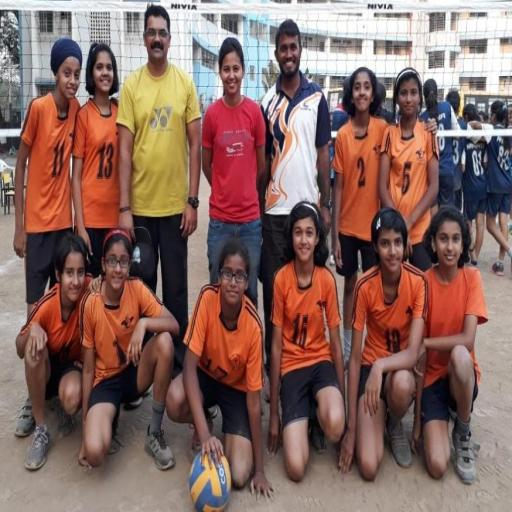person: (118, 5, 200, 370), (167, 239, 272, 495), (260, 19, 330, 371), (79, 229, 179, 469), (341, 208, 427, 480), (268, 201, 345, 481), (413, 208, 487, 483), (14, 38, 82, 316), (202, 38, 265, 303), (16, 233, 86, 470), (333, 67, 387, 365), (379, 68, 438, 270), (72, 43, 119, 276), (484, 135, 511, 275), (462, 138, 486, 265), (420, 79, 459, 131), (452, 137, 466, 210), (374, 82, 396, 124)
